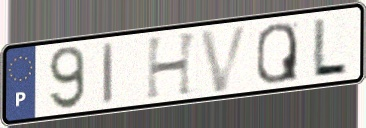9: (45, 44, 88, 112)
H: (145, 29, 201, 102)
I: (101, 40, 116, 107)
L: (309, 16, 350, 78)
Q: (254, 20, 300, 86)
V: (196, 21, 252, 95)
